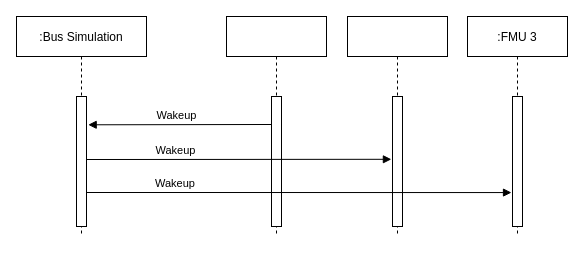
Some shapes in this 584 by 253 pixel diagram are drawn without their labels. Here are the shapes that lost their labels. From the top down, the box of each, then its label:
(226, 16, 326, 236): :FMU 1
(346, 16, 448, 236): :FMU 2
